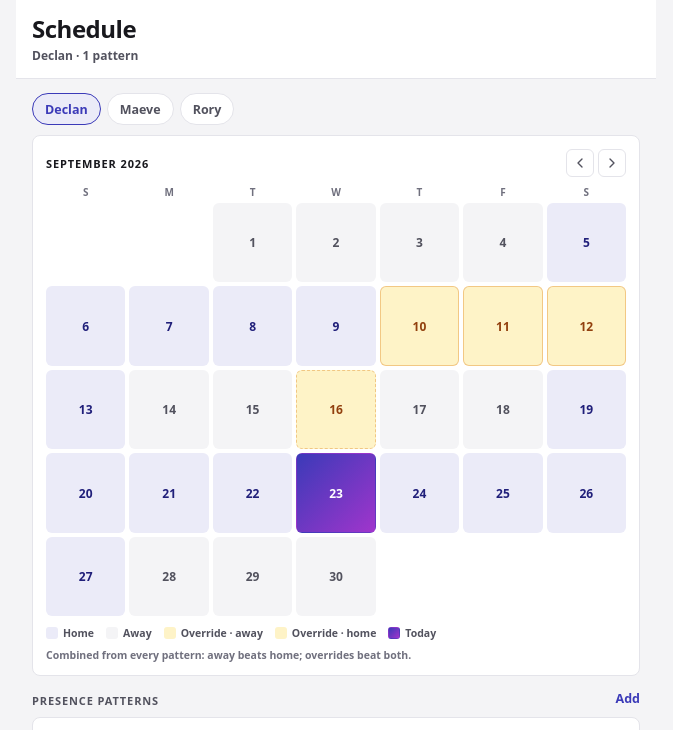
Test: ScheduleTab › a child with no patterns is home every day
Click the button "Rory" at (207, 109), box [180,93,234,125]
(page scrolled)
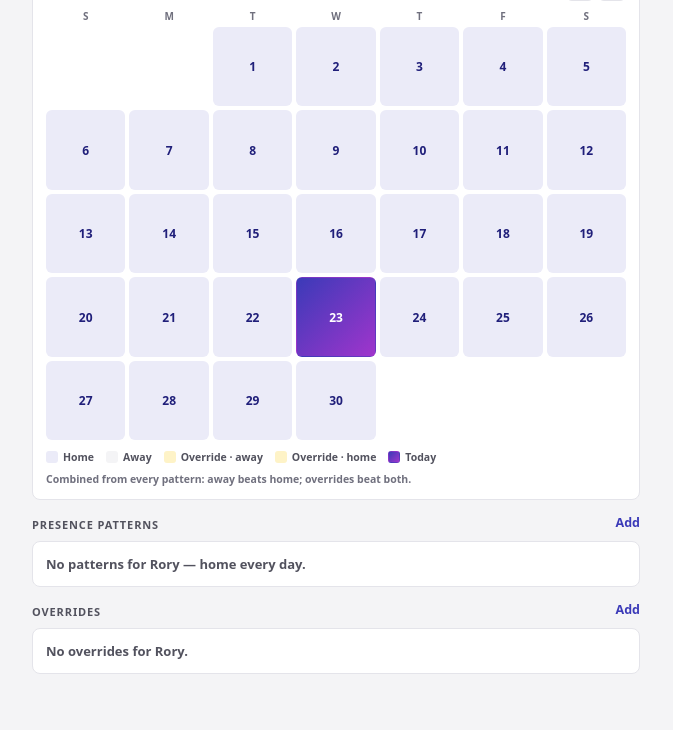
Check: the text with test id "patterns-empty" reads "No patterns for Rory — home every day.", box [32,541,640,587]
Check: the text "No overrides for Rory." is shown, box [32,628,640,674]
